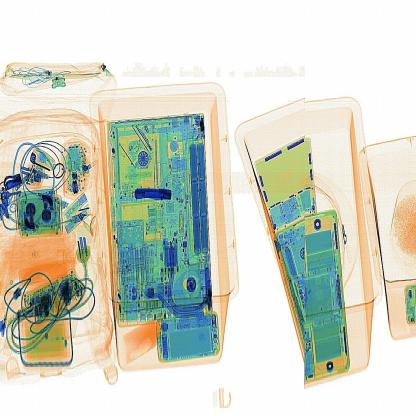knife: (130, 181, 179, 210)
